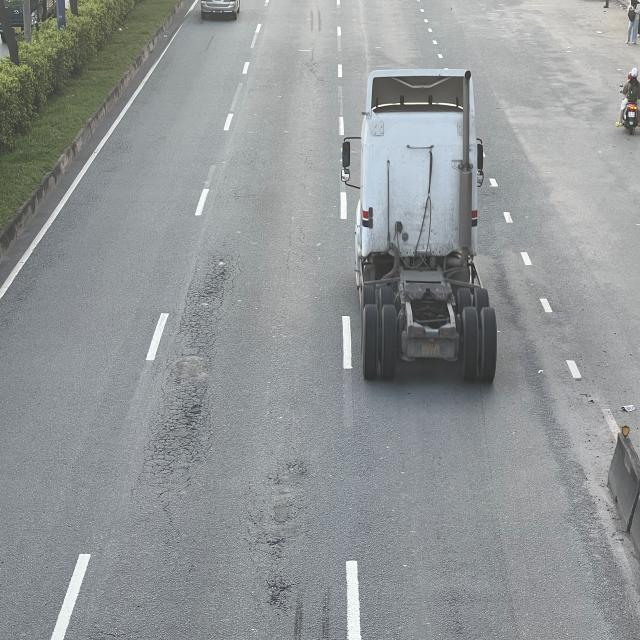container: (342, 66, 495, 382)
